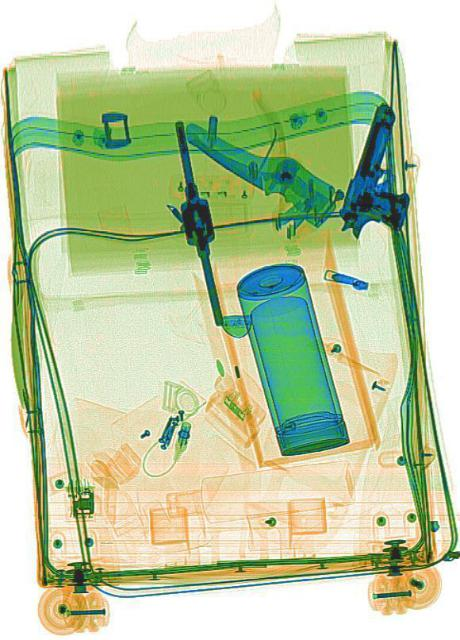Gun: (331, 97, 430, 257)
